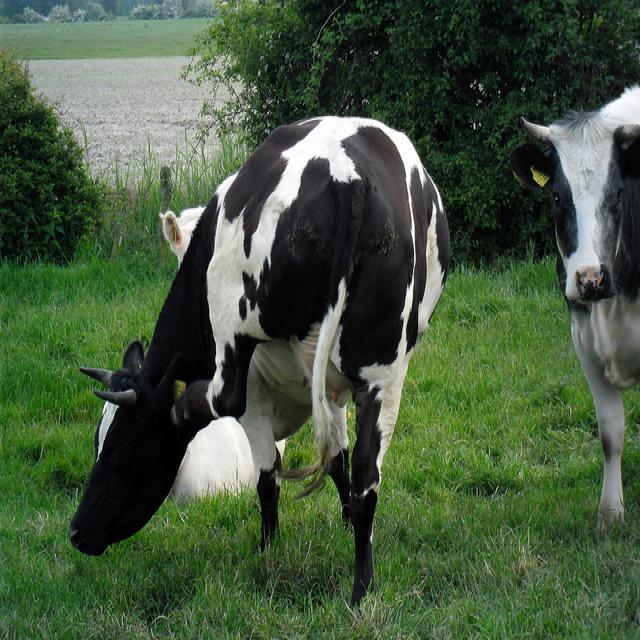cow: (69, 112, 450, 600), (509, 84, 639, 536), (155, 204, 257, 511)
